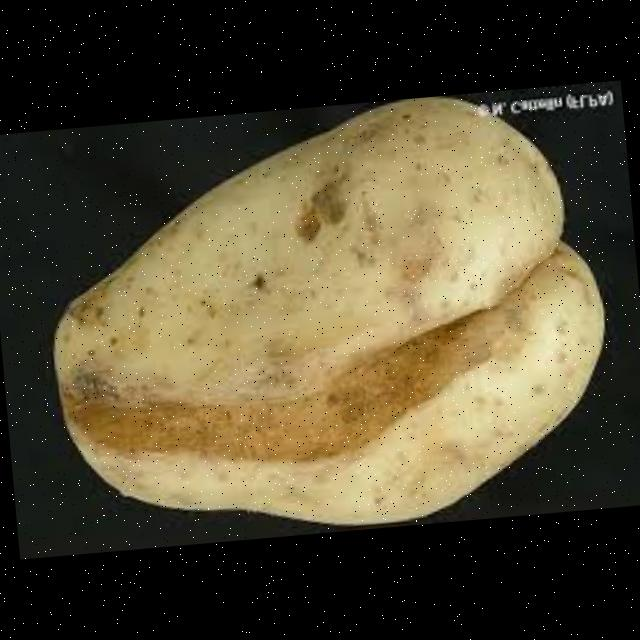Damaged potato: (38, 90, 610, 555)
